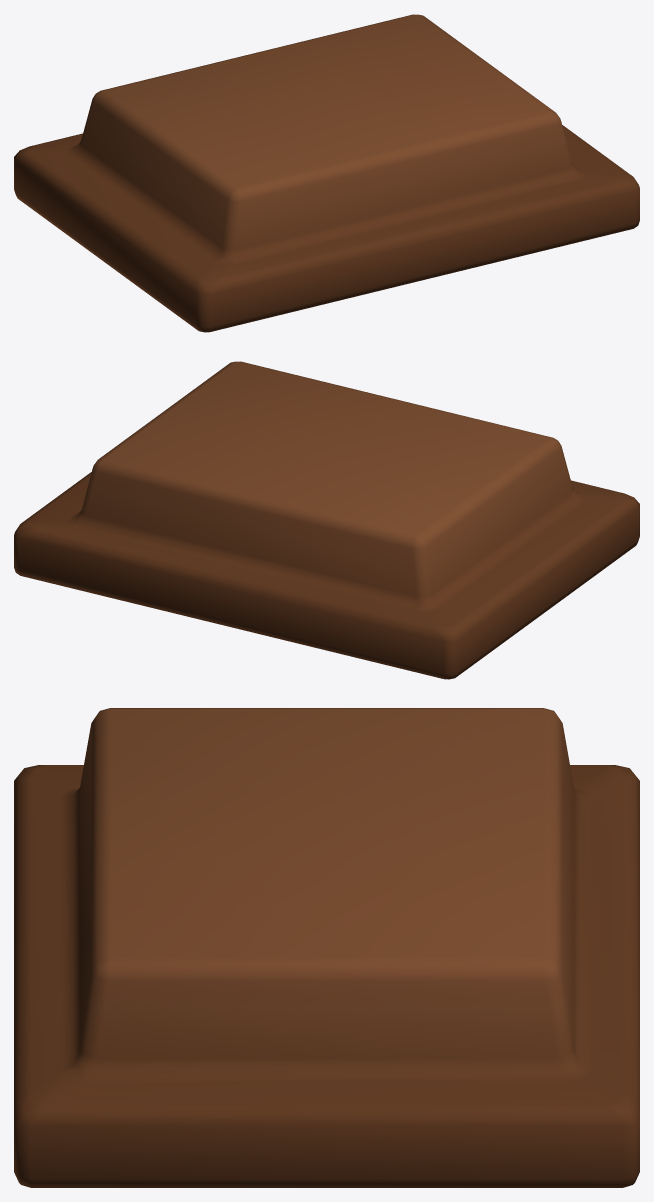
The model's file is candy_choco_10.fbx.
3 renders of one model, top to bottom at view 1: azimuth 30°, elevation 25°; view 2: azimuth 150°, elevation 25°; view 3: azimuth 270°, elevation 25°, orthographic. The views are drawn at different scales.
Visible parts, largest first — view 1: c_c_10; view 2: c_c_10; view 3: c_c_10.
Boxes of the visible parts, <box> form: c_c_10: <box>14,14,639,332</box>; c_c_10: <box>14,361,639,679</box>; c_c_10: <box>14,708,639,1187</box>.
Bounding box in the file's own units: 149 × 36.29 × 111.
